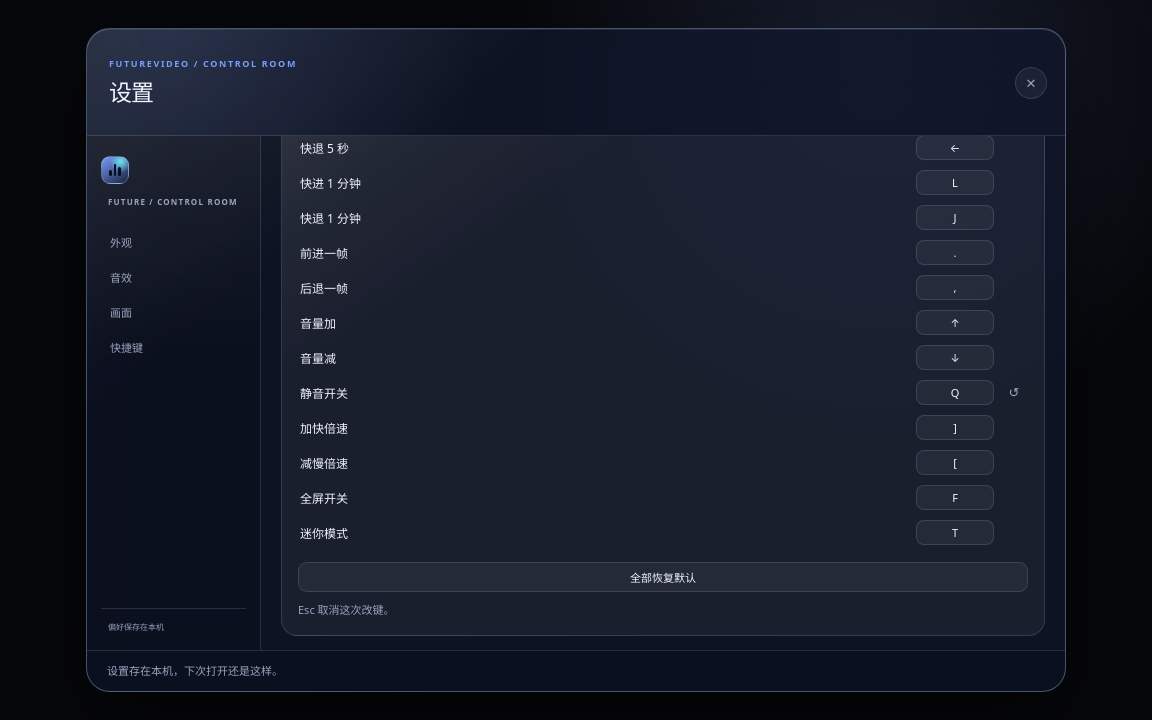
设置页 · 快捷键 › 改过的那一条能单独恢复默认
(page scrolled)
Expected: the button named "静音开关 的按键" reads "Q", [916, 380, 994, 405]
What coordinates should you click on to do the following:
click the button named "把 静音开关 恢复默认"
I would click on:
 (1014, 392)
Its box is [1002, 384, 1026, 401].
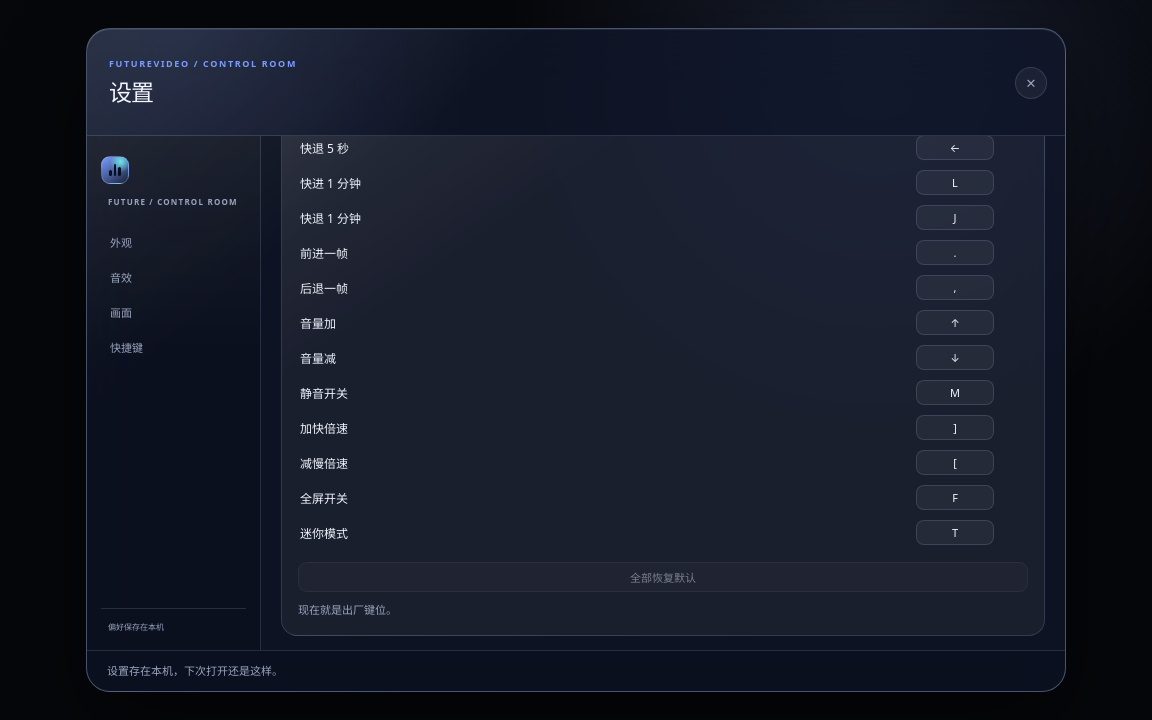
Now the button named "静音开关 的按键" reads "M", box [916, 380, 994, 405]
